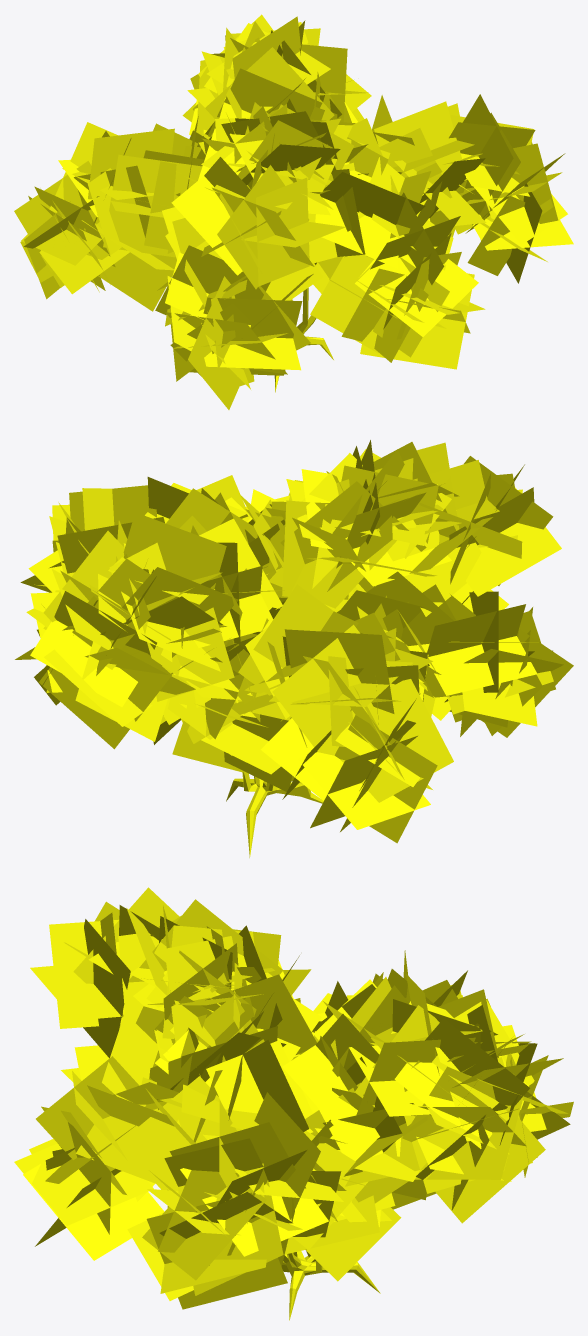
The model's file is bush_raspberry.glb.
The picture shows the model from 3 angles, top to bottom: view 1: azimuth 30°, elevation 25°; view 2: azimuth 150°, elevation 25°; view 3: azimuth 270°, elevation 25°; orthographic projection. The views are drawn at different scales.
Parts seen in each view (by area): view 1: Raspberry_LOD0, SM_Raspberry_LOD0; view 2: Raspberry_LOD0, SM_Raspberry_LOD0; view 3: Raspberry_LOD0, SM_Raspberry_LOD0.
Boxes of the visible parts, box(x1,y1,x2,y2) form: Raspberry_LOD0: box(14, 14, 573, 409); SM_Raspberry_LOD0: box(274, 184, 472, 392); Raspberry_LOD0: box(15, 440, 573, 843); SM_Raspberry_LOD0: box(226, 719, 323, 857); Raspberry_LOD0: box(14, 887, 573, 1309); SM_Raspberry_LOD0: box(281, 1054, 380, 1320).
Bounding box in the file's own units: 1.77 × 1.19 × 1.65.
